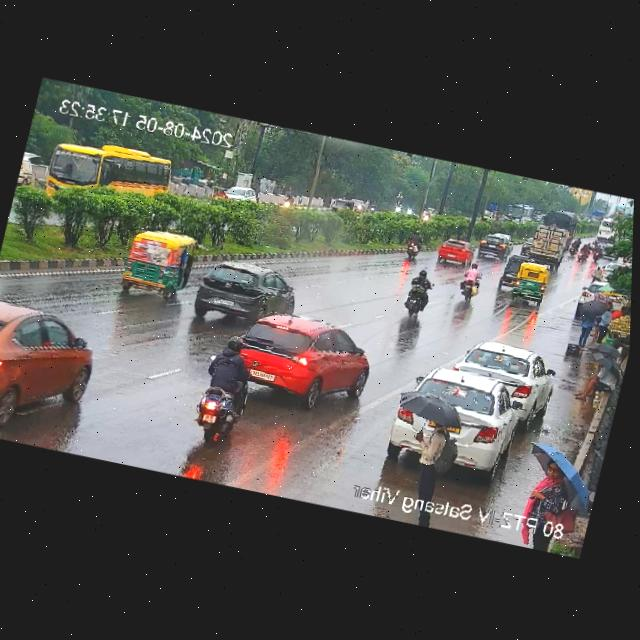bus: (32, 128, 179, 222), (503, 200, 536, 227), (595, 216, 618, 243)
car: (226, 304, 385, 421), (0, 294, 108, 444), (395, 361, 526, 443), (185, 253, 301, 333), (455, 335, 558, 413), (111, 221, 199, 307), (492, 252, 554, 304), (433, 233, 478, 269), (475, 235, 510, 263), (227, 183, 260, 205), (478, 230, 510, 249), (330, 195, 352, 214)
motorcycle: (192, 324, 259, 449), (395, 267, 444, 319), (453, 261, 491, 305), (400, 228, 428, 260), (209, 185, 226, 204), (576, 242, 591, 263), (590, 243, 603, 265), (568, 238, 579, 256), (284, 192, 296, 208), (589, 238, 599, 254)
person: (402, 409, 469, 506), (520, 454, 588, 525), (568, 354, 624, 411), (568, 292, 621, 351), (594, 299, 616, 347), (610, 301, 631, 318)
truck: (527, 223, 571, 266), (539, 207, 578, 244)
